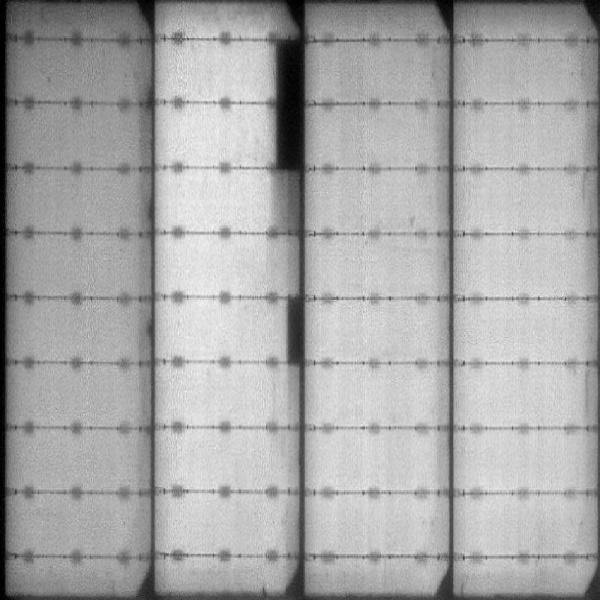black_border: (270, 38, 311, 169), (282, 293, 307, 366)
